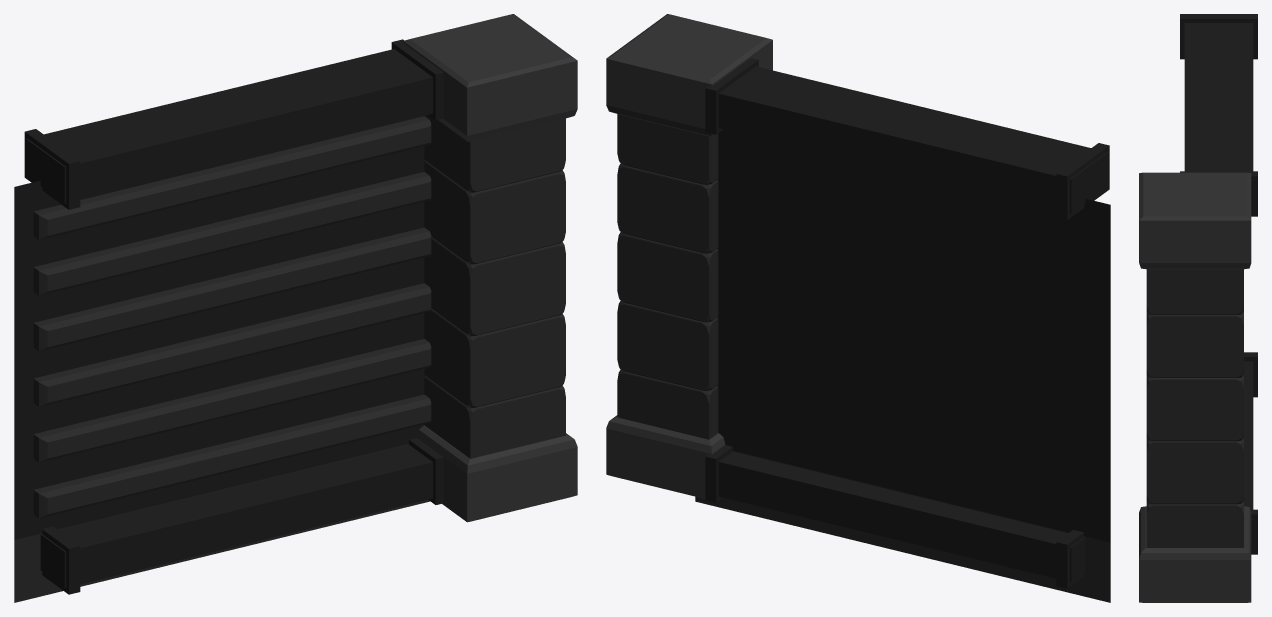
Rendered from Wall_02_1Pillar.fbx.
The picture shows the model from 3 angles, left to right: view 1: azimuth 30°, elevation 25°; view 2: azimuth 150°, elevation 25°; view 3: azimuth 270°, elevation 25°; orthographic projection. The views are drawn at different scales.
Visible parts, largest first — view 1: Wall_02_1Pillar; view 2: Wall_02_1Pillar; view 3: Wall_02_1Pillar.
Part boxes in pixels (x1=…): Wall_02_1Pillar: x1=14, y1=14, x2=577, y2=602; Wall_02_1Pillar: x1=606, y1=14, x2=1110, y2=602; Wall_02_1Pillar: x1=1139, y1=14, x2=1257, y2=602.
Size of the model in its own units: 1384 by 1175 by 316.
